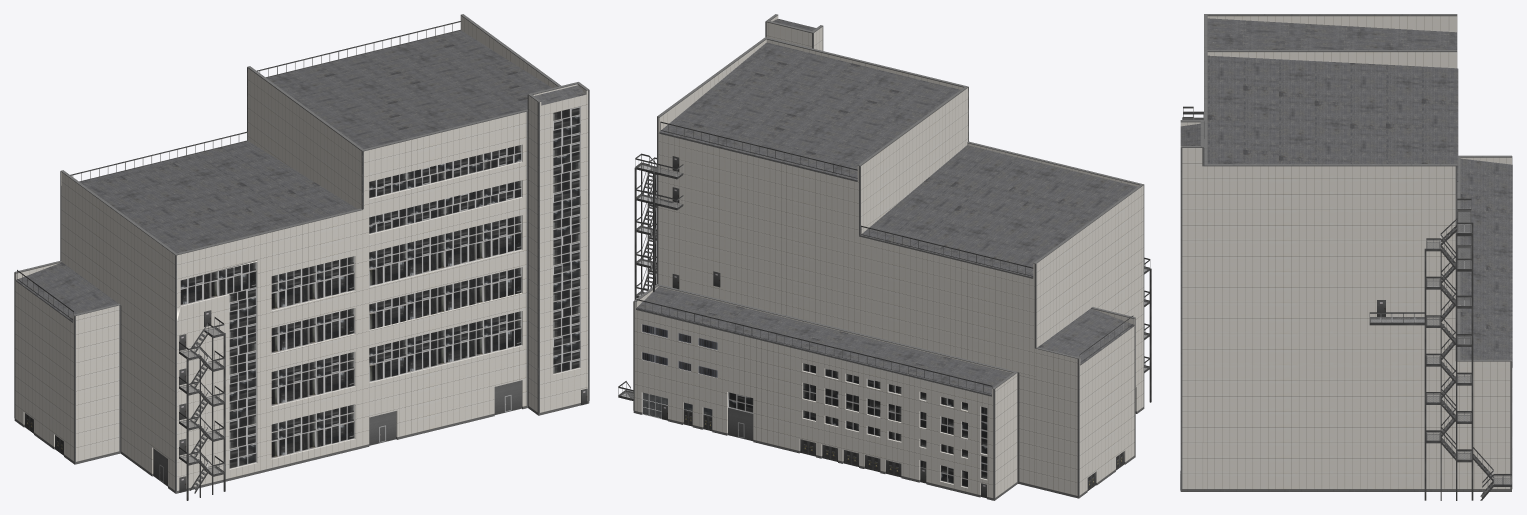
File: plant-mez-podgotovka.glb
3 views of the same model, side by side, from view 1: azimuth 30°, elevation 25°; view 2: azimuth 150°, elevation 25°; view 3: azimuth 270°, elevation 25° (orthographic). The views are drawn at different scales.
Parts seen in each view (by area): view 1: Object8932125; view 2: Object8932125; view 3: Object8932125.
Boxes of the visible parts, x1=… form: Object8932125: x1=14, y1=14, x2=589, y2=500; Object8932125: x1=618, y1=14, x2=1151, y2=500; Object8932125: x1=1180, y1=14, x2=1512, y2=500.
Size of the model in its own units: 66.92 by 43.09 by 37.59.
Materials: 1 (1 with a texture image).
